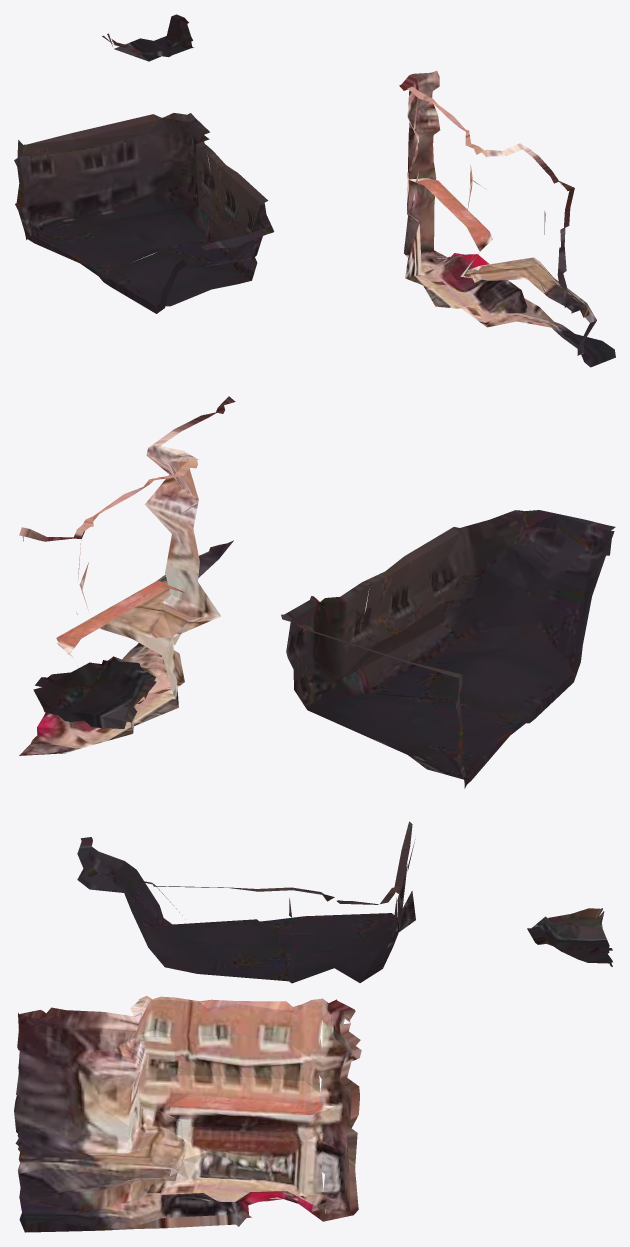
3 views of the same model, one above another, from view 1: azimuth 30°, elevation 25°; view 2: azimuth 150°, elevation 25°; view 3: azimuth 270°, elevation 25° (orthographic). The views are drawn at different scales.
Visible parts, largest first — view 1: Mesh_0; view 2: Mesh_0; view 3: Mesh_0.
Boxes of the visible parts, bbox=[...] form: Mesh_0: bbox=[14, 14, 615, 367]; Mesh_0: bbox=[19, 396, 615, 788]; Mesh_0: bbox=[14, 821, 612, 1232].
Size of the model in its own units: 32.22 by 14.05 by 37.77.
1 material, 1 textured.
